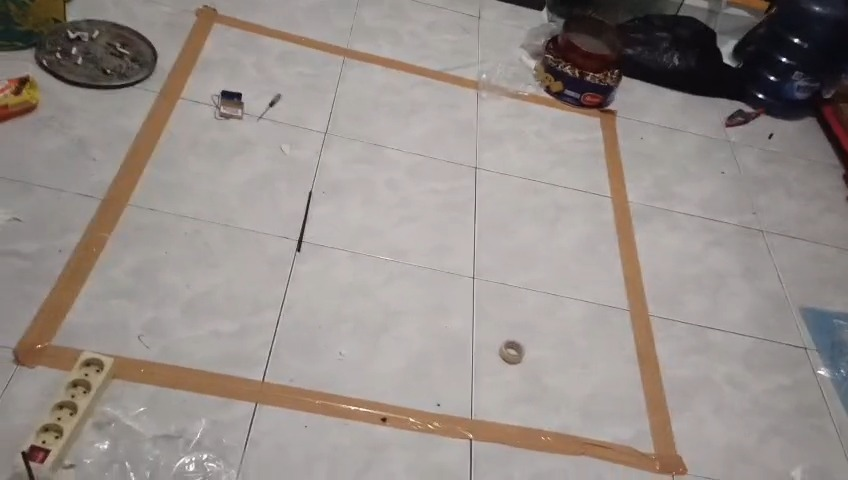floor marking: (14, 6, 686, 476)
